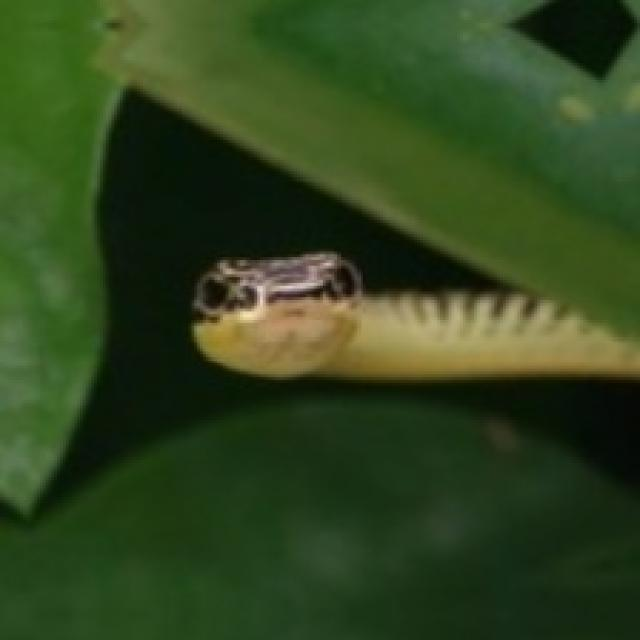paradise tree snake: (191, 251, 637, 380)
